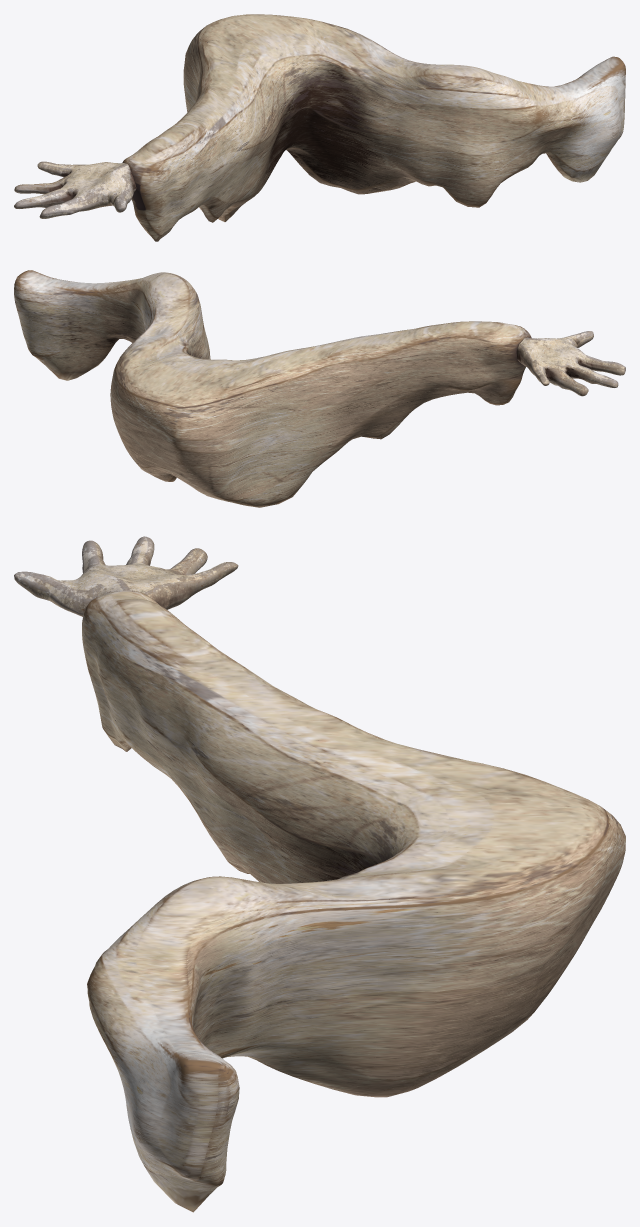
Rendered from PATH_full.fbx.
3 renders of one model, top to bottom at view 1: azimuth 30°, elevation 25°; view 2: azimuth 150°, elevation 25°; view 3: azimuth 270°, elevation 25°, orthographic. The views are drawn at different scales.
Parts seen in each view (by area): view 1: path3, hand_stature; view 2: path3, hand_stature; view 3: path3, hand_stature.
Boxes of the visible parts, x1,y1,x2,y2 form: path3: (122, 14, 625, 241); hand_stature: (14, 161, 136, 218); path3: (14, 270, 531, 507); hand_stature: (516, 331, 625, 396); path3: (82, 590, 625, 1212); hand_stature: (14, 536, 238, 616).
Size of the model in its own units: 583 by 150 by 302.
